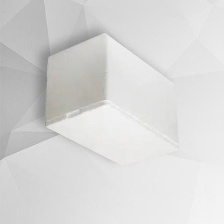foam_box: (37, 29, 182, 169)
